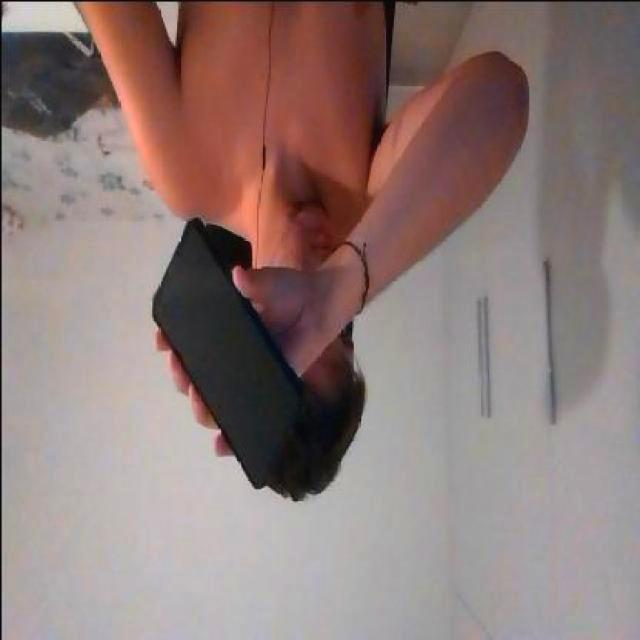phone: (153, 216, 302, 490)
